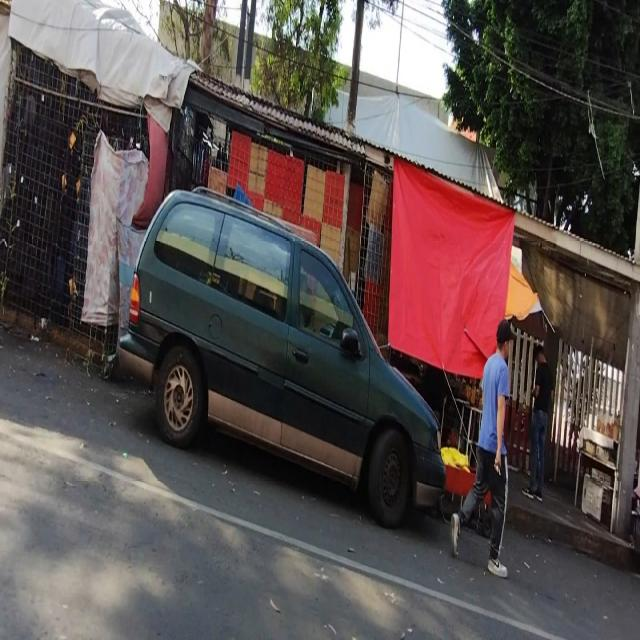adult: (450, 320, 511, 578), (522, 344, 554, 500)
